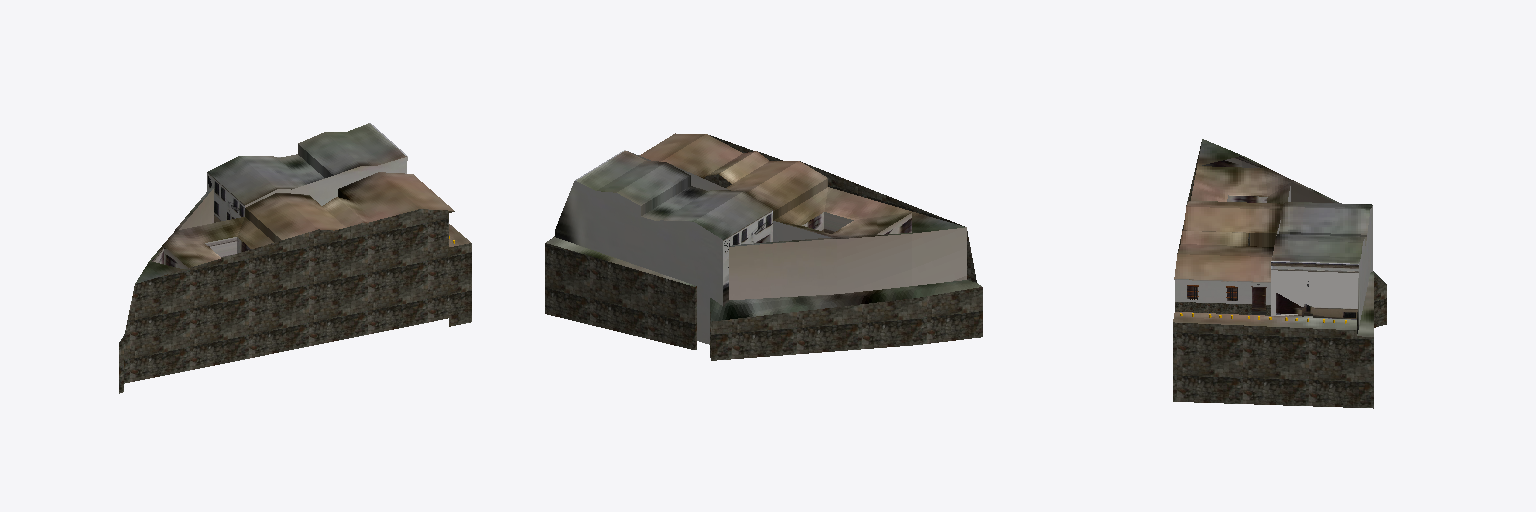
The picture shows the model from 3 angles: view 1: azimuth 30°, elevation 25°; view 2: azimuth 150°, elevation 25°; view 3: azimuth 270°, elevation 25°; orthographic projection.
Visible parts, largest first — view 1: Mesh67 Model; view 2: Mesh67 Model; view 3: Mesh67 Model.
Boxes of the visible parts, box(x1,y1,x2,y2) form: Mesh67 Model: box(119, 123, 471, 393); Mesh67 Model: box(545, 133, 982, 360); Mesh67 Model: box(1173, 139, 1386, 408).
Bounding box in the file's own units: 45.96 × 16.64 × 24.25.
Materials: 23 (19 with a texture image).